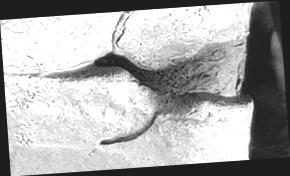crack: (1, 0, 290, 176)
